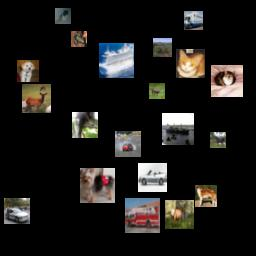automobile: (138, 163, 167, 192), (115, 131, 141, 157), (4, 198, 30, 224)
bird: (72, 112, 98, 138)
cat: (211, 65, 243, 97), (176, 49, 205, 78)
deer: (22, 84, 51, 113), (165, 200, 194, 229), (195, 185, 217, 207), (149, 83, 165, 99)
dog: (80, 168, 115, 203), (17, 60, 39, 82), (55, 8, 71, 24)
frog: (153, 38, 172, 57), (71, 31, 87, 47)
ship: (99, 43, 134, 78), (162, 113, 194, 145)
truck: (125, 198, 160, 233), (184, 11, 203, 30)
